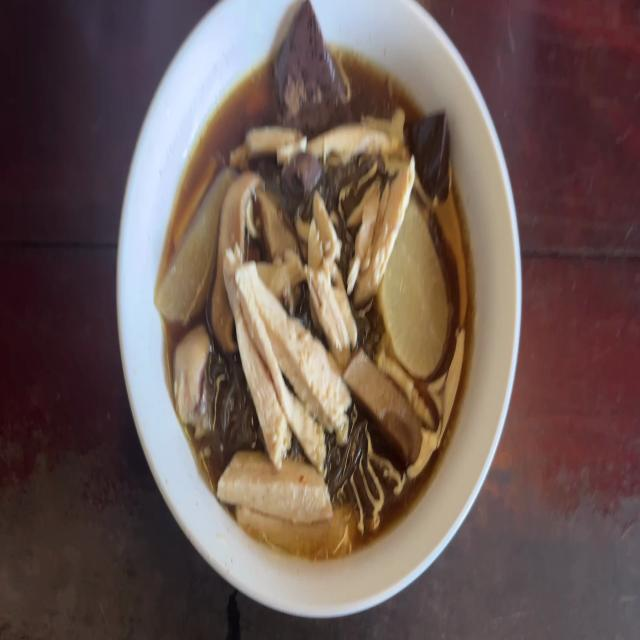noodle: (277, 0, 348, 118), (412, 107, 458, 189), (282, 153, 326, 208)
